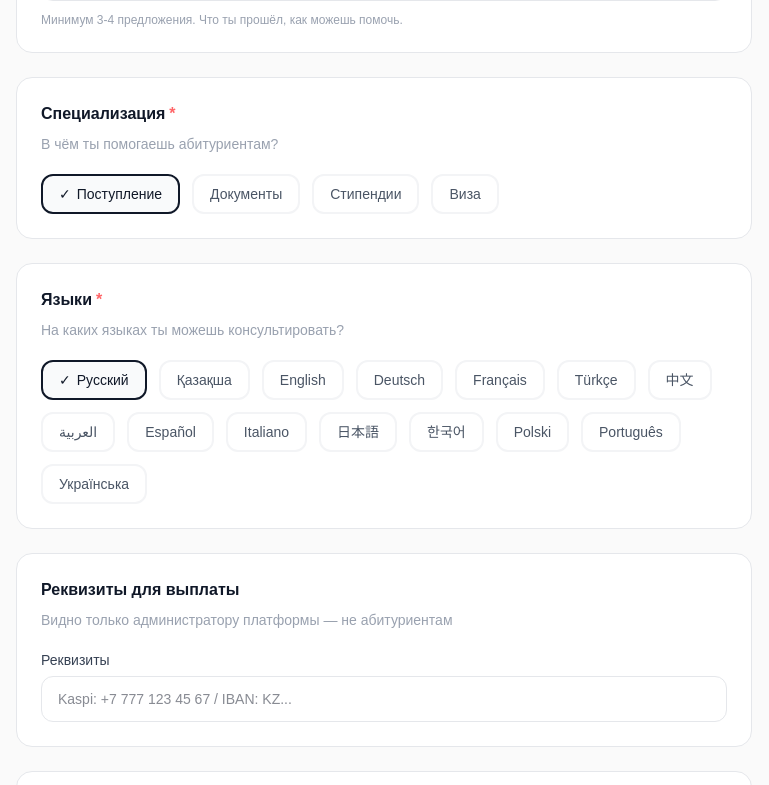
Test case: MentorProfilePage — editing › prefills selected languages and lets the mentor toggle more
(page scrolled)
Check: the button "✓Русский" is shown, box 41,360 -> 147,400
Check: the button "English" does not show "✓"
Click the button "English": (303, 380) 262,360 -> 344,400
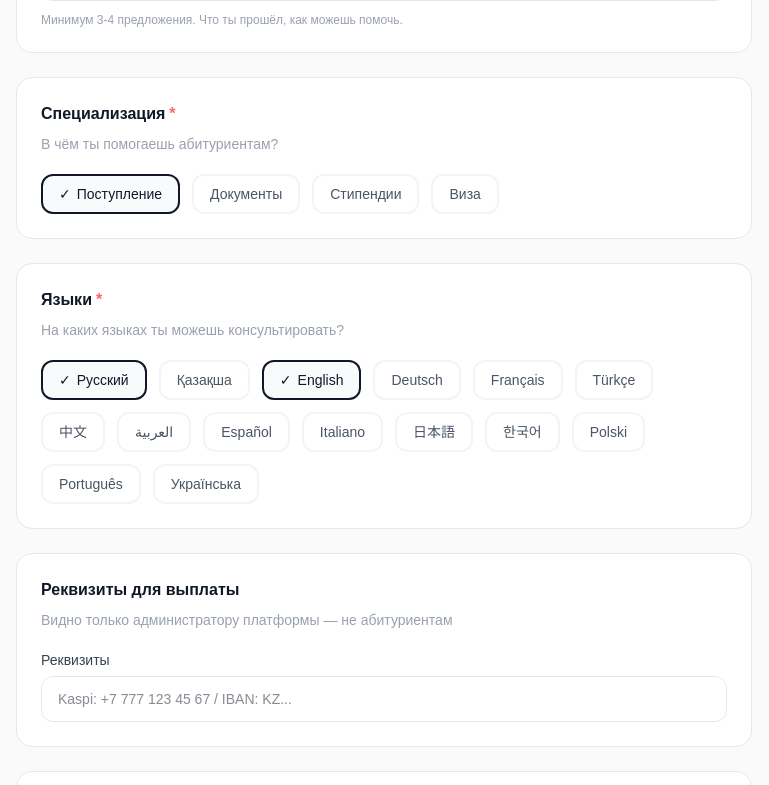
Check: the button "✓English" is shown, box 262,360 -> 362,400
